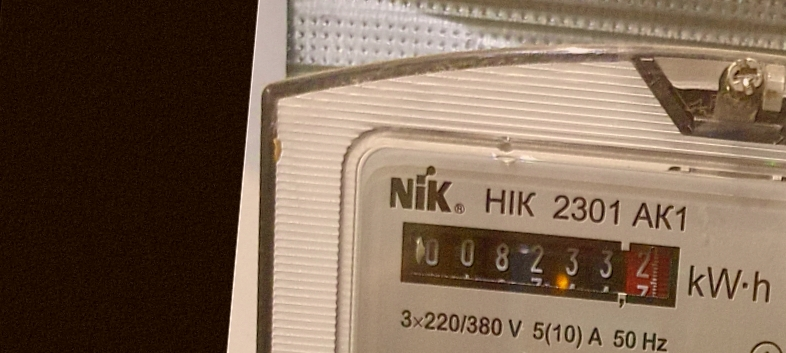0: (420, 234, 443, 268), (456, 236, 478, 269)
2: (525, 242, 548, 276), (634, 248, 653, 281)
3: (562, 245, 582, 278), (597, 247, 617, 280)
8: (492, 240, 512, 273)
screen: (386, 210, 693, 318)
